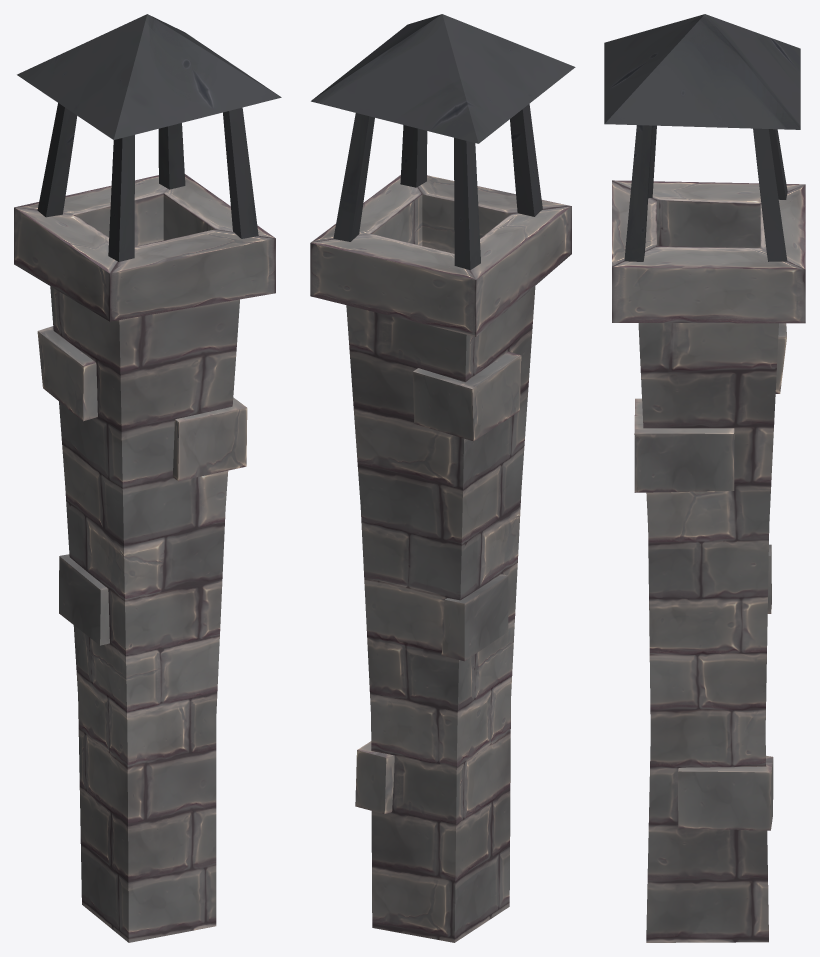
The model's file is SM_BLD_chimney_v01_03.fbx.
3 renders of one model, left to right at view 1: azimuth 30°, elevation 25°; view 2: azimuth 150°, elevation 25°; view 3: azimuth 270°, elevation 25°, orthographic.
Parts seen in each view (by area): view 1: SM_BLD_chimney_v01_03; view 2: SM_BLD_chimney_v01_03; view 3: SM_BLD_chimney_v01_03.
Part boxes in pixels (box(x1,y1,x2,y2)): SM_BLD_chimney_v01_03: box(14, 14, 281, 942); SM_BLD_chimney_v01_03: box(310, 14, 575, 942); SM_BLD_chimney_v01_03: box(604, 14, 805, 942).
Size of the model in its own units: 144 by 738 by 148.
